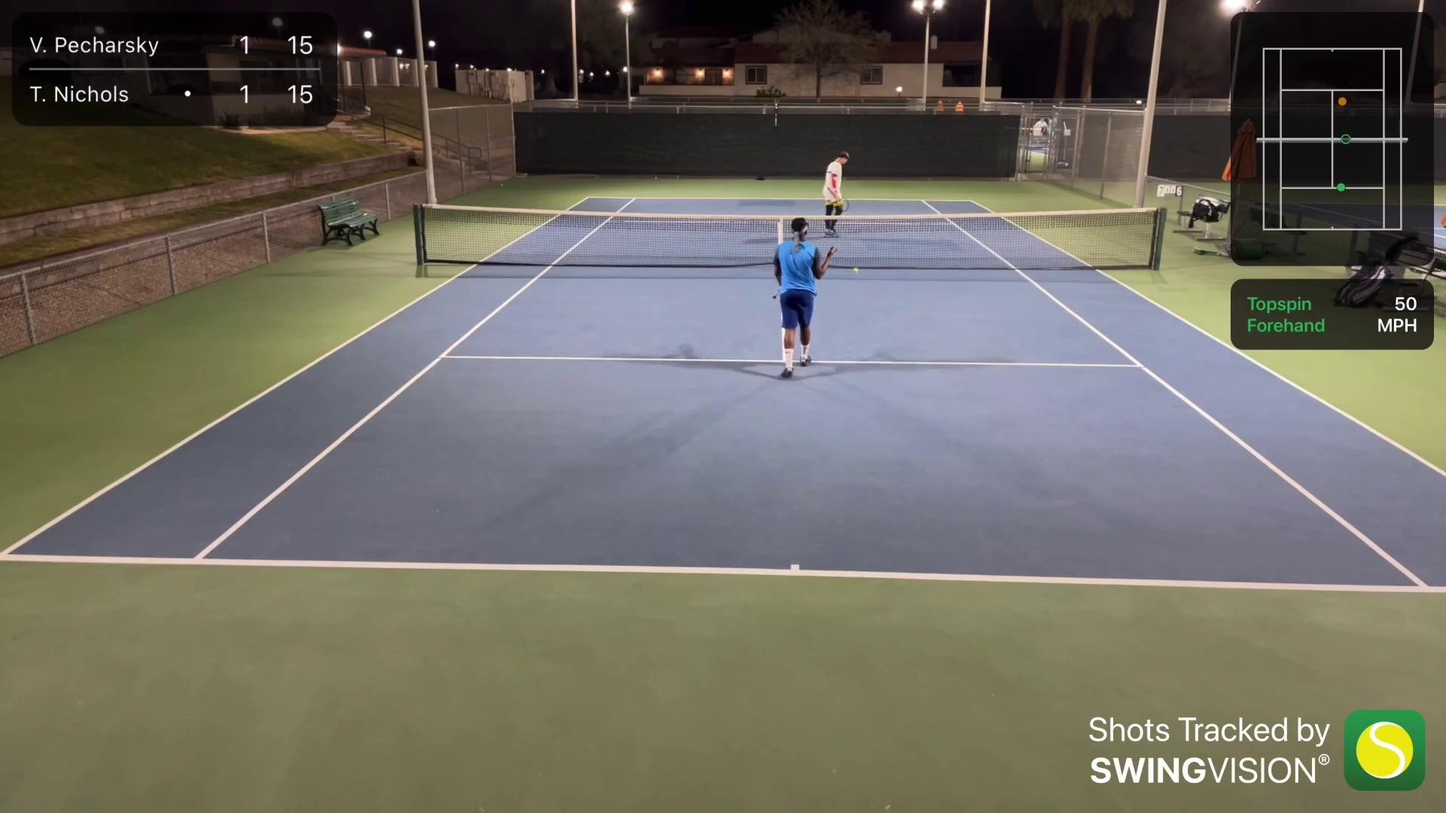ball: (852, 263, 862, 276)
